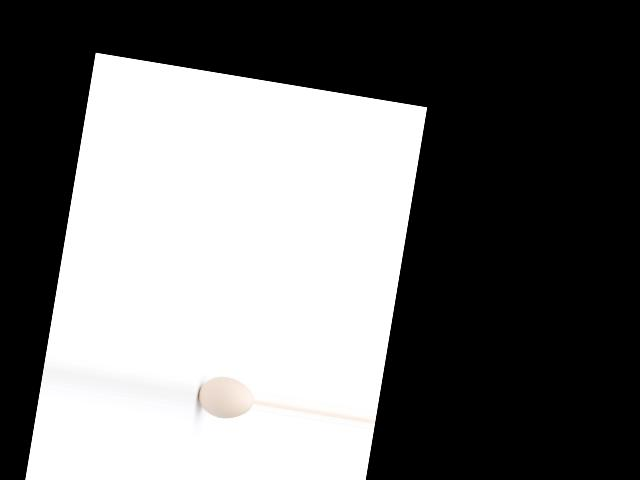egg: (195, 373, 256, 422)
